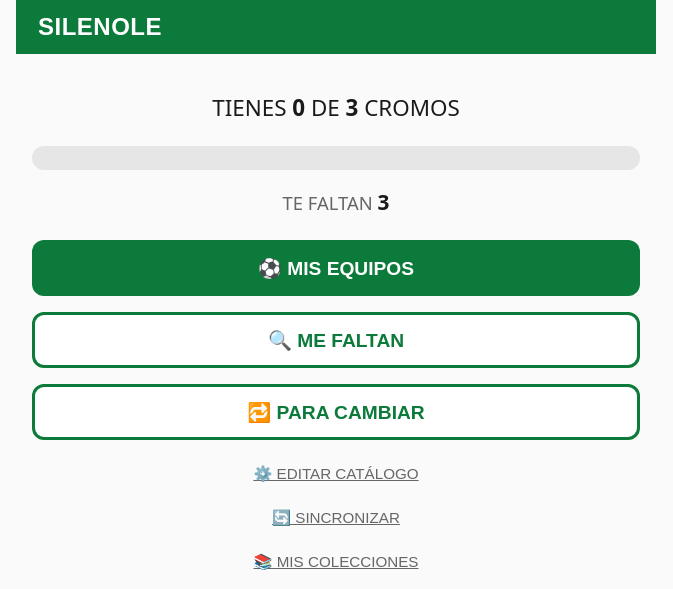
Test case: App — multi-colección (Fase 9) › muestra "Mis colecciones" con la colección de LaLiga y su progreso
This screenshot has width=673, height=589.
Click the button "📚 Mis colecciones": {"x": 336, "y": 562} 248,552 -> 424,572
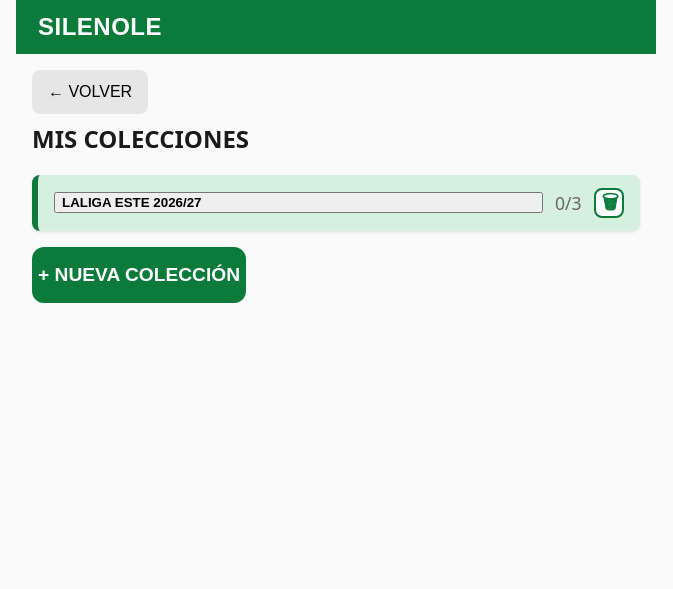
Expected: the button with aria-label "abrir LaLiga" is shown, 54,192 -> 543,213
Expected: the text "0/3" is shown, 555,191 -> 582,215
